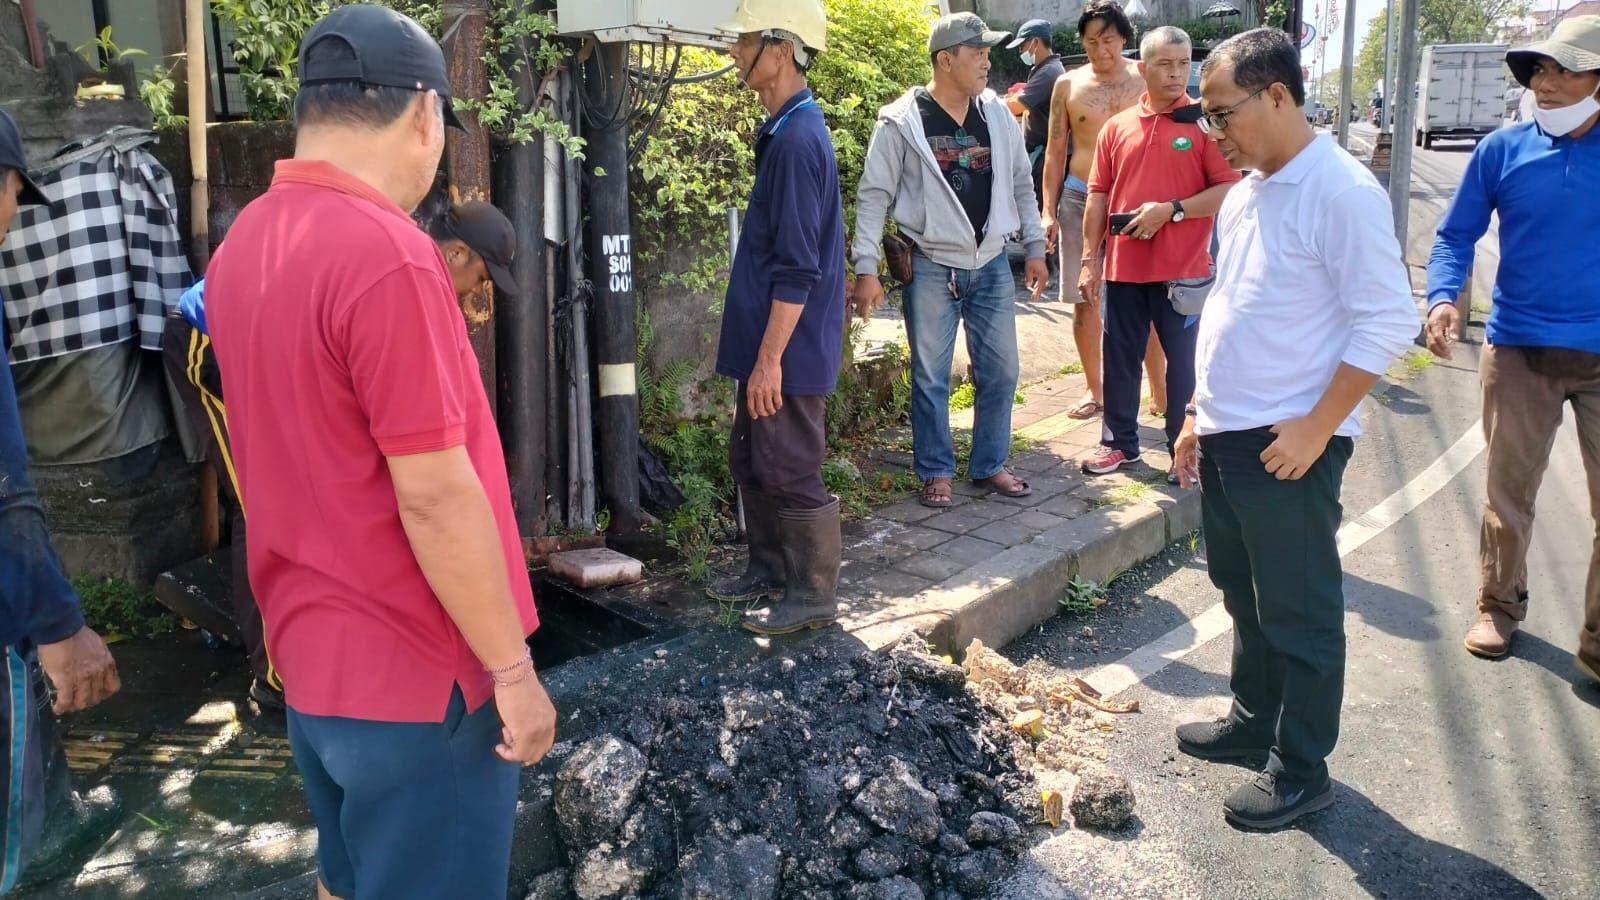Pothole: (526, 548, 685, 698)
